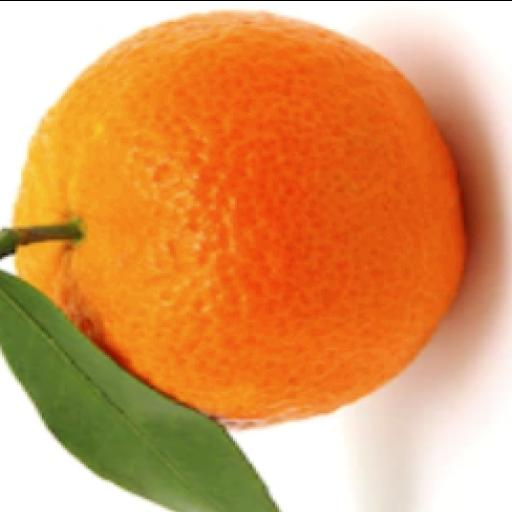orange: (15, 12, 465, 427)
